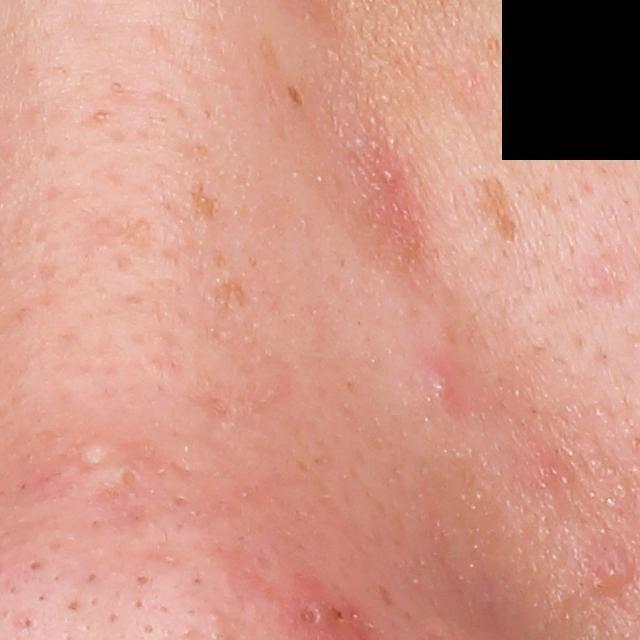comedo: (300, 606, 320, 629), (25, 555, 45, 574), (119, 469, 139, 487)
melasma: (477, 177, 521, 248), (187, 177, 227, 223), (287, 85, 304, 106)
papule: (420, 361, 461, 414)
